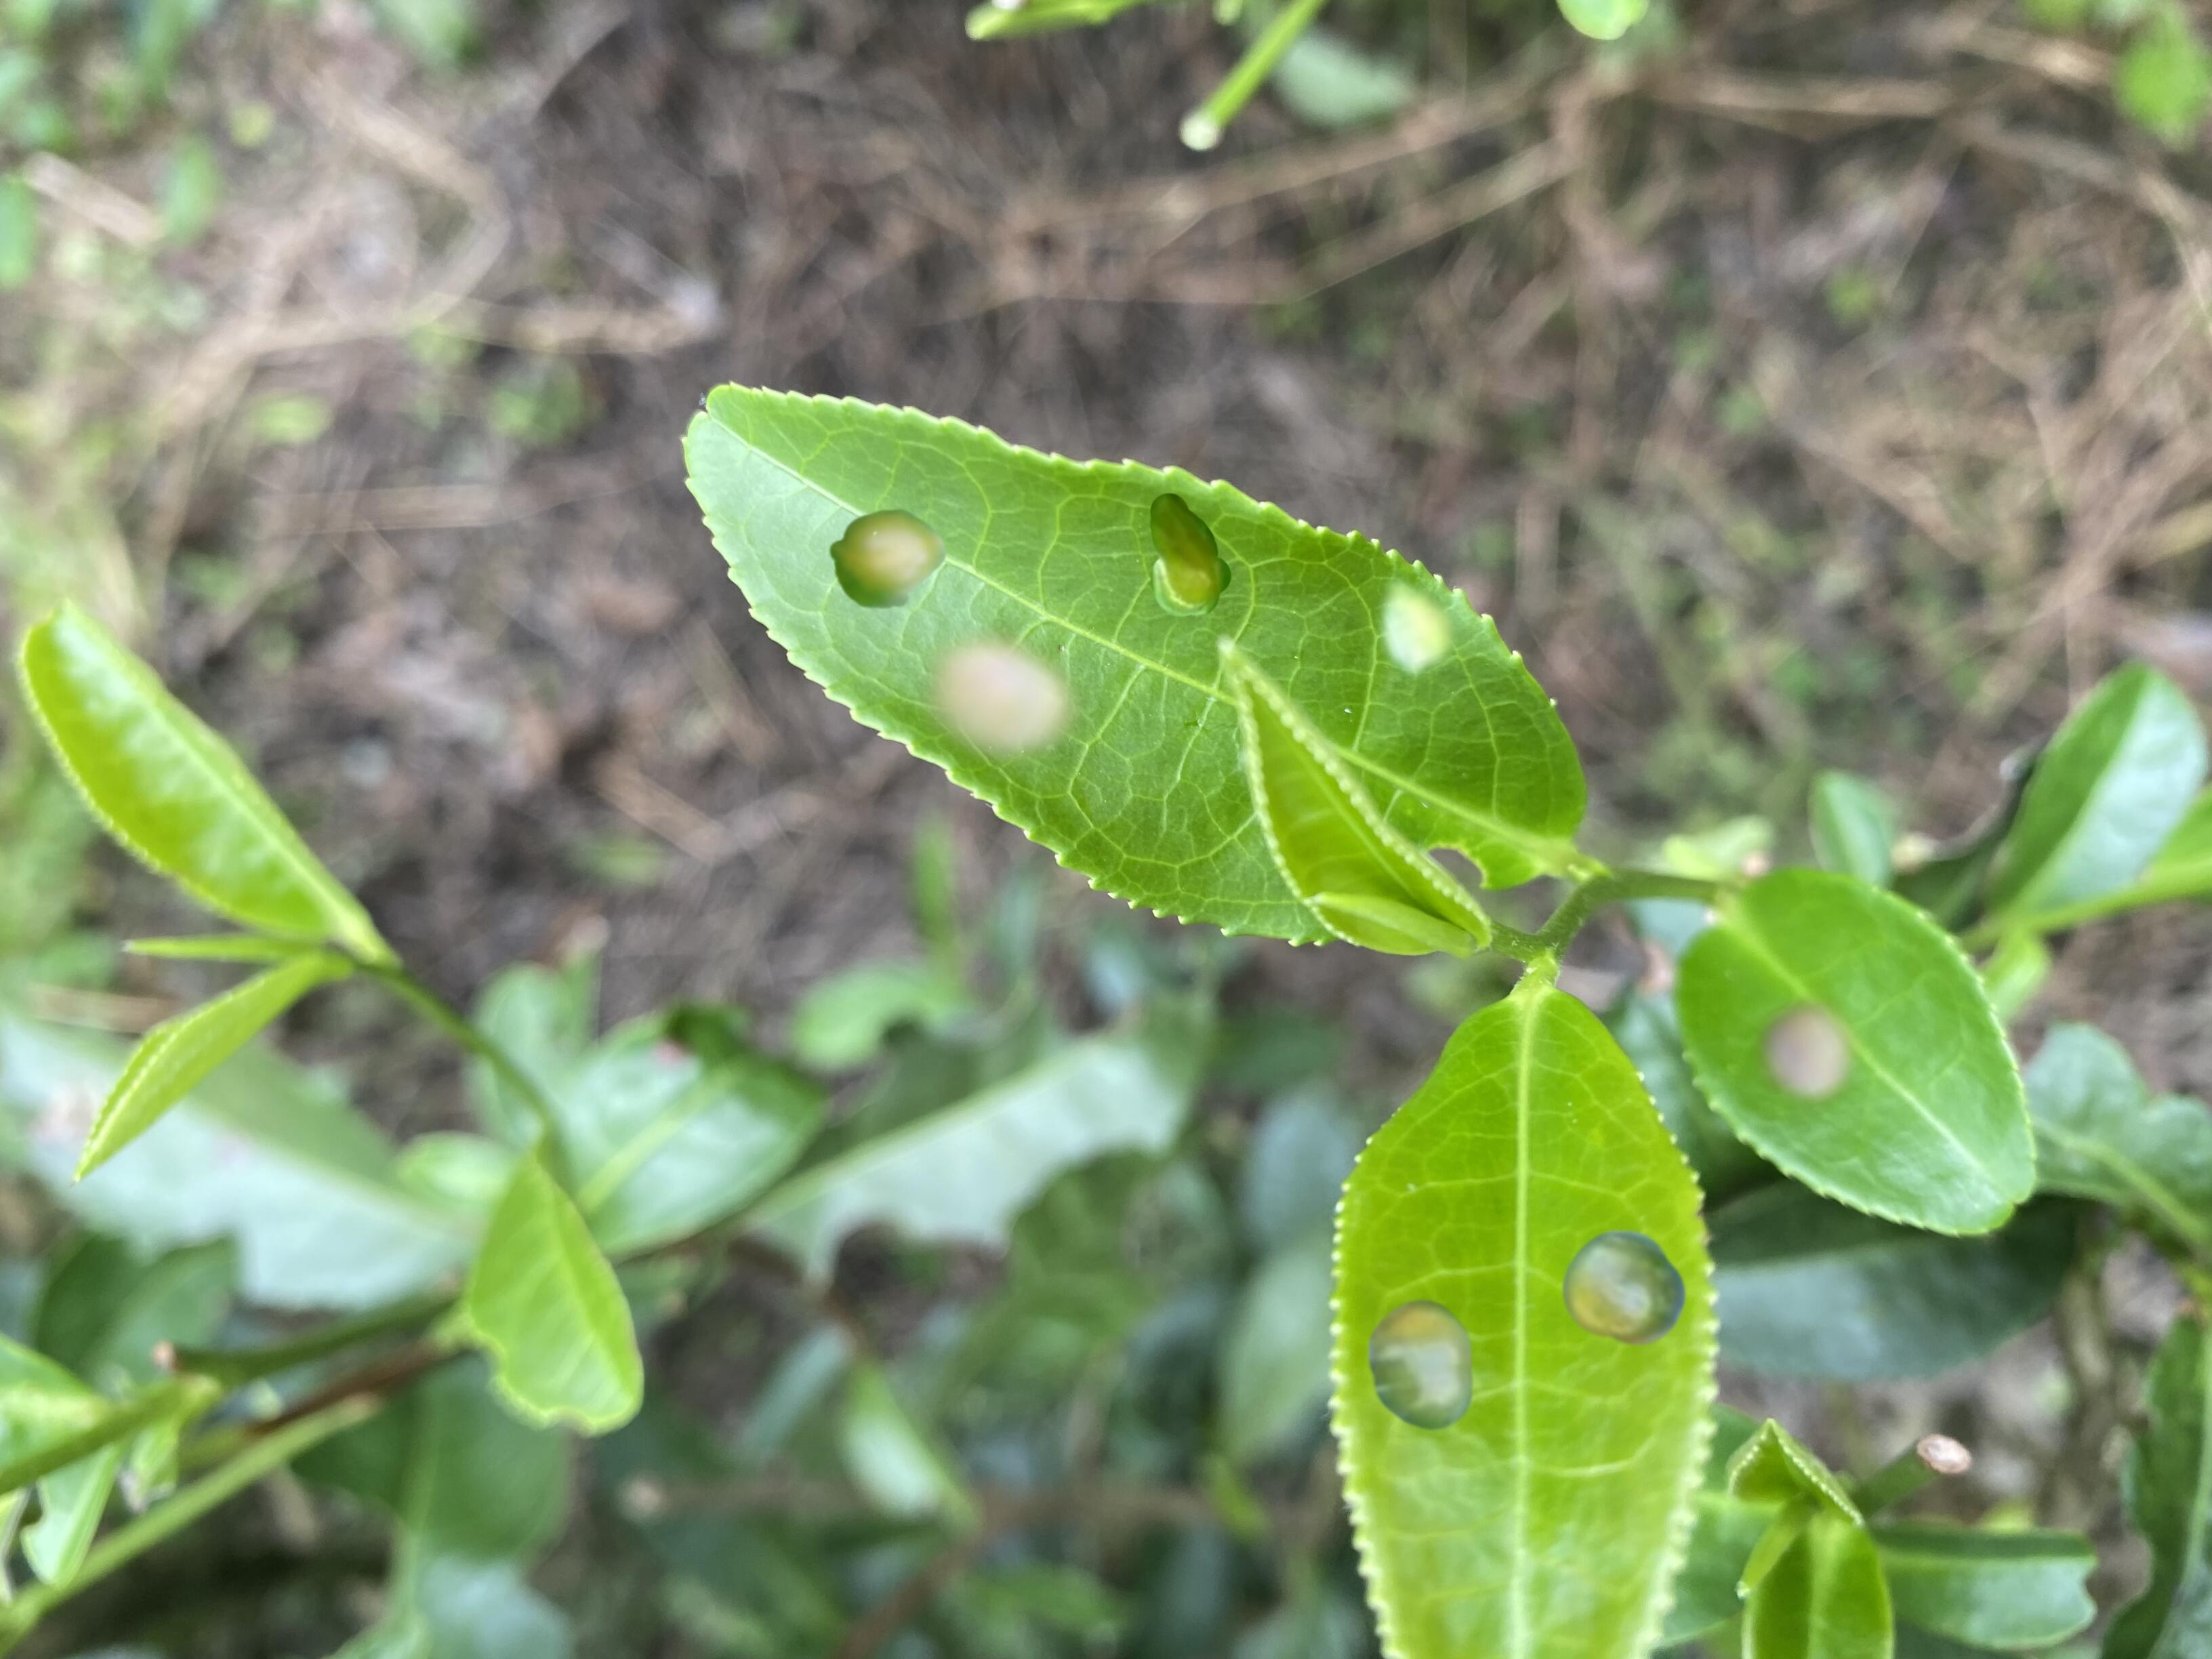chabing_high: (681, 378, 1592, 951), (1329, 988, 1723, 1656)
chabing_low: (1670, 868, 2041, 1239)
healthy: (1219, 638, 1491, 955)
